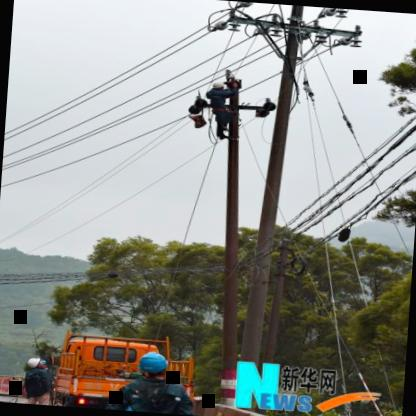helmet: (124, 344, 173, 380), (22, 354, 48, 373), (210, 79, 230, 93)
